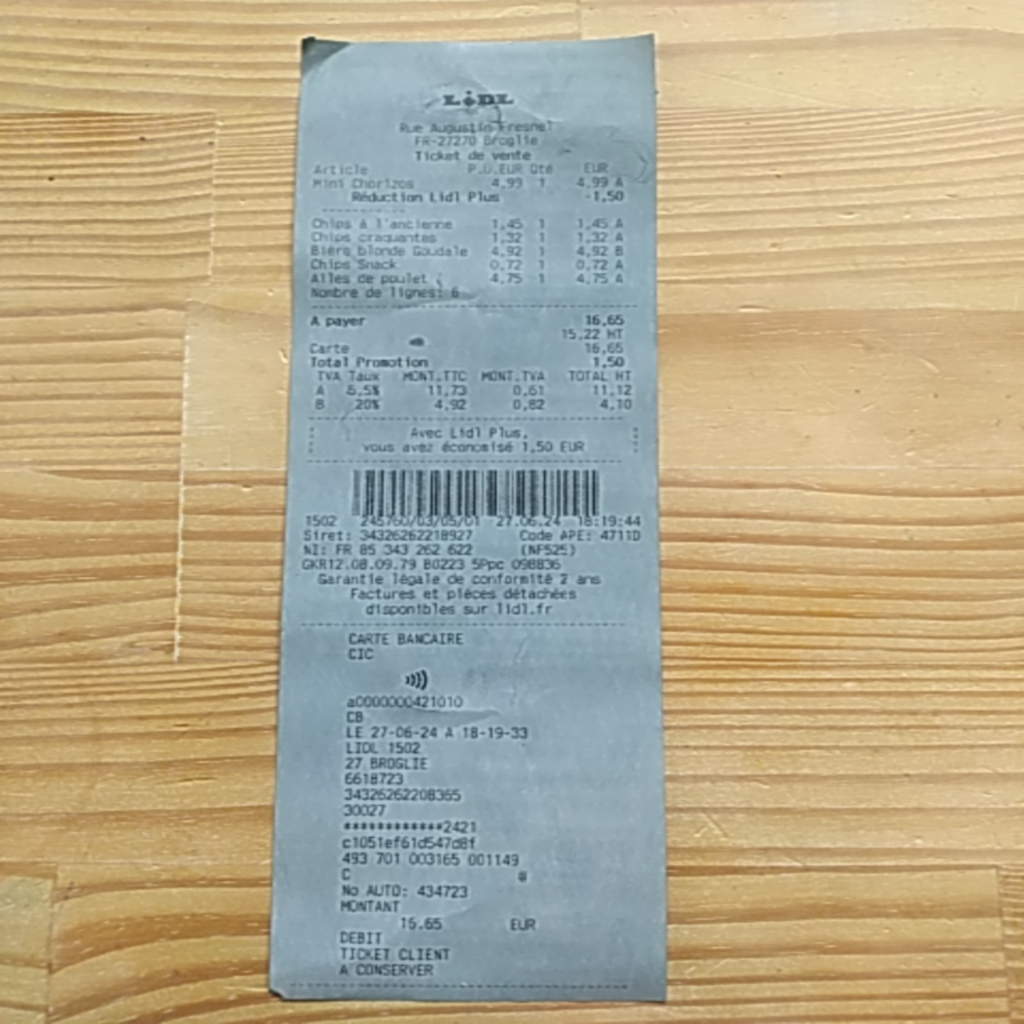recipt: (269, 32, 661, 1001)
